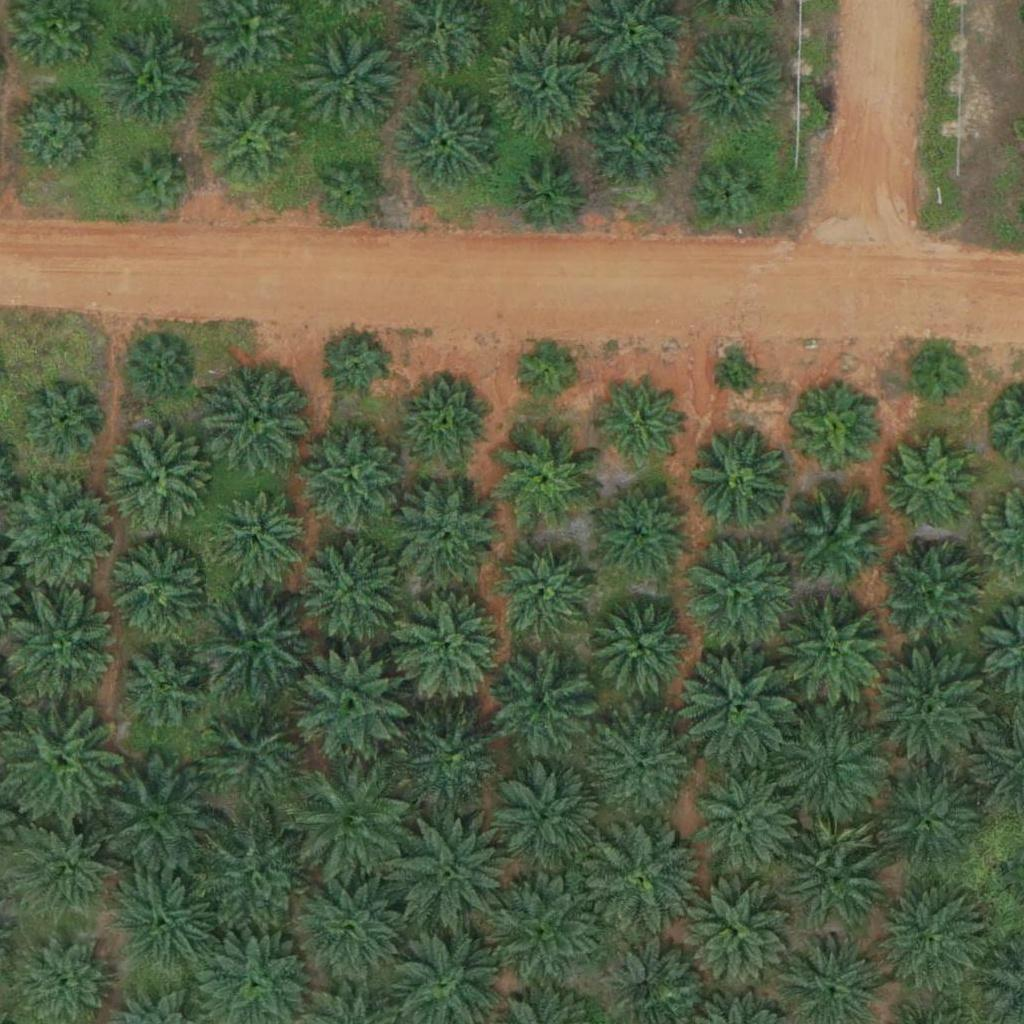Kelapa_Sawit: (95, 755, 220, 881), (191, 575, 316, 701), (190, 694, 315, 820), (190, 810, 315, 936), (291, 644, 416, 770), (289, 762, 414, 888), (386, 810, 511, 936), (674, 648, 799, 774), (767, 705, 892, 831), (863, 647, 988, 773), (289, 864, 414, 990), (387, 587, 512, 712), (577, 818, 702, 943), (484, 867, 609, 992), (777, 596, 890, 710), (877, 537, 990, 651), (3, 477, 116, 590), (869, 764, 982, 877), (874, 881, 987, 994), (11, 812, 123, 926), (490, 35, 602, 148), (683, 531, 795, 644), (686, 767, 798, 880), (776, 816, 888, 929), (584, 92, 684, 193), (397, 90, 497, 191), (300, 28, 400, 129), (201, 89, 301, 190), (102, 31, 202, 132), (108, 427, 208, 528), (107, 542, 207, 643), (210, 368, 310, 469), (204, 489, 304, 590), (301, 425, 401, 526), (301, 537, 401, 638), (396, 482, 496, 583), (404, 709, 504, 810), (498, 429, 598, 530), (493, 544, 593, 645), (494, 658, 594, 759), (498, 762, 598, 863), (590, 481, 690, 582), (592, 597, 692, 698), (589, 713, 689, 814), (686, 885, 786, 986), (687, 34, 787, 134), (114, 638, 214, 738), (690, 426, 790, 526), (785, 484, 885, 584), (113, 869, 213, 969), (13, 89, 101, 177), (595, 381, 683, 469), (888, 436, 976, 524), (407, 378, 494, 466), (794, 390, 881, 478), (693, 156, 768, 232), (119, 148, 194, 224), (27, 383, 102, 458), (511, 162, 586, 237), (315, 156, 390, 231), (128, 337, 191, 400), (328, 335, 390, 398), (514, 336, 576, 399), (909, 348, 971, 411), (721, 356, 758, 394)
